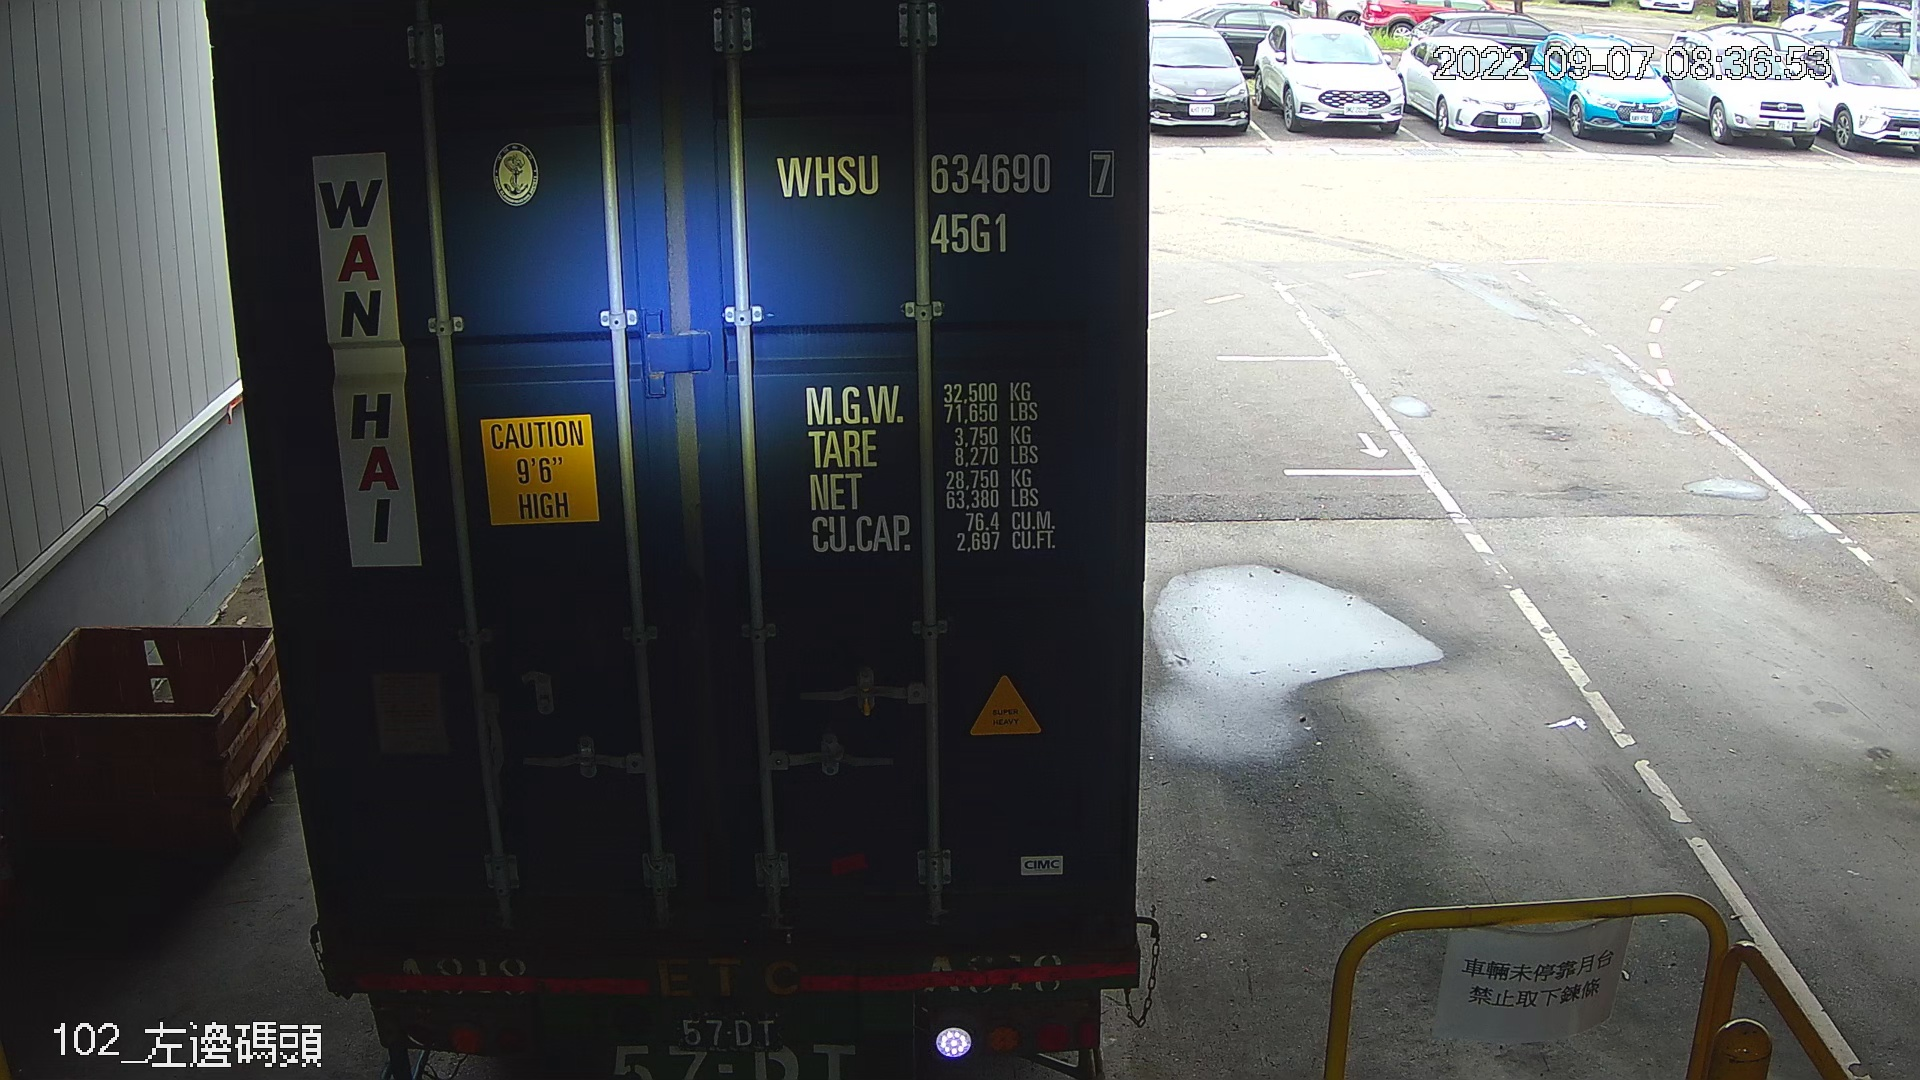container: (767, 144, 1125, 262)
